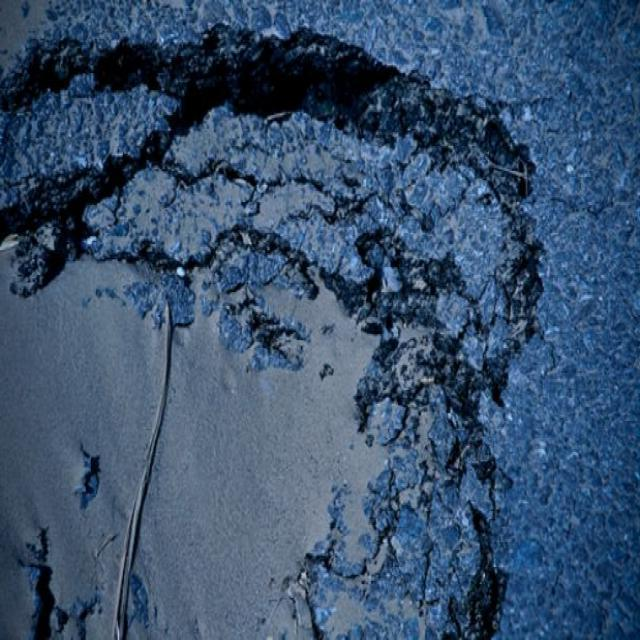Pothole: (2, 12, 555, 634)
